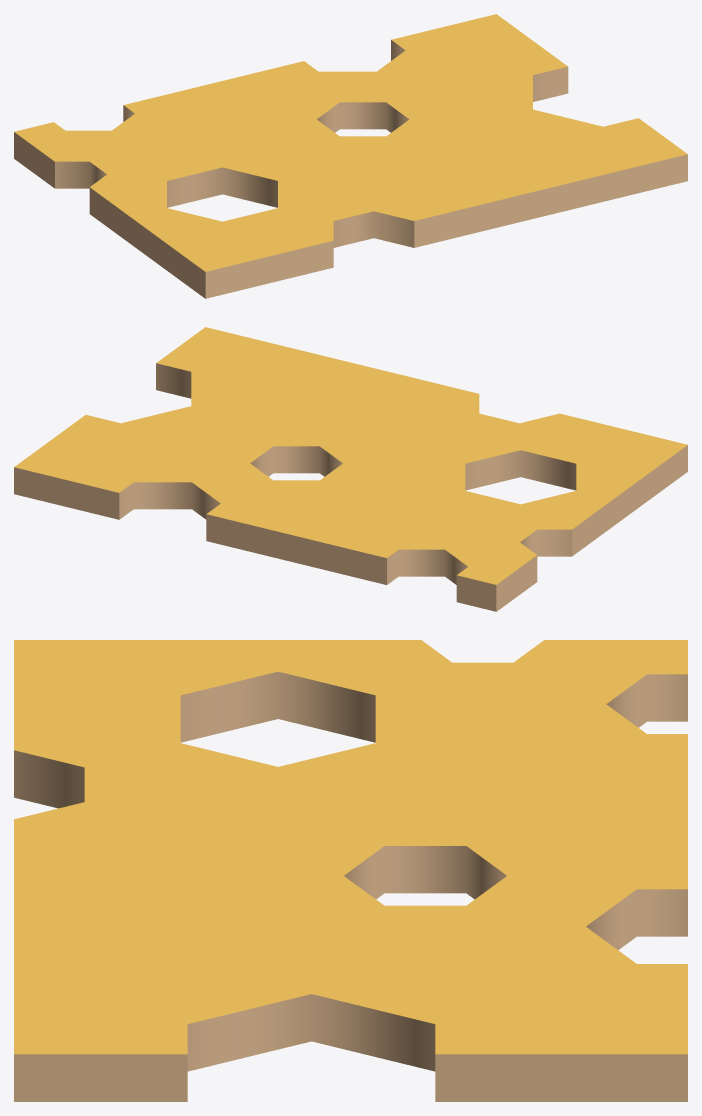
The model's file is cheese.glb.
The picture shows the model from 3 angles, top to bottom: view 1: azimuth 30°, elevation 25°; view 2: azimuth 150°, elevation 25°; view 3: azimuth 270°, elevation 25°; orthographic projection. The views are drawn at different scales.
Parts seen in each view (by area): view 1: cheeseCut; view 2: cheeseCut; view 3: cheeseCut.
Boxes of the visible parts, bbox=[...] form: cheeseCut: bbox=[14, 14, 687, 298]; cheeseCut: bbox=[14, 327, 687, 611]; cheeseCut: bbox=[14, 640, 687, 1101].
Bounding box in the file's own units: 0.384 × 0.0205 × 0.264.
